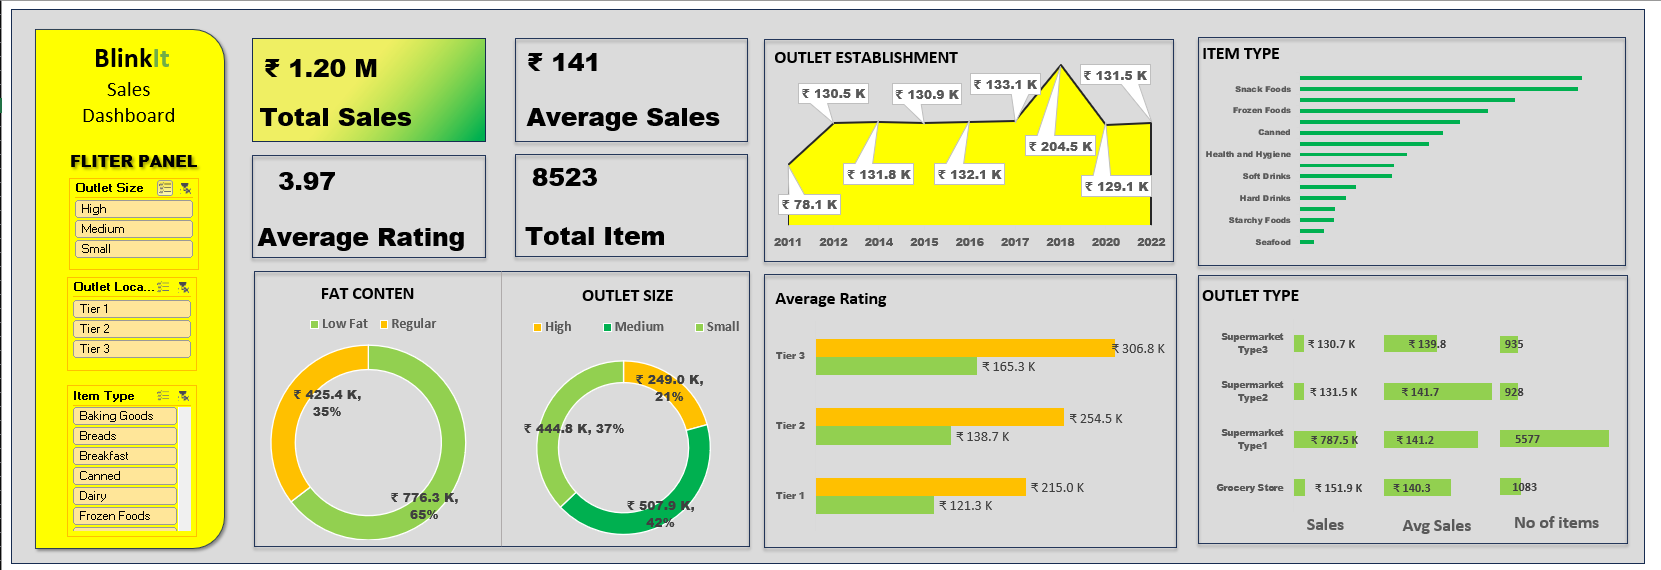

Layout of this report page (visuals, bound fields, positions):
{"tool":"powerbi","page":{"name":"Page 1","canvas":[1400,800],"ordinal":0},"visuals":[{"type":"shape","box":[25,25,205,775],"z":0},{"type":"textbox","box":[41.1,50,172.2,81.1],"z":1000},{"type":"textbox","box":[44.4,103.3,166.7,27.8],"z":2000},{"type":"cardVisual","fields":{"Data":["Sum(BlinkIT Grocery Data.Sales)","BlinkIT Grocery Data.AVERAGE SALES","BlinkIT Grocery Data.TOTAL ITEMS","Avg(BlinkIT Grocery Data.Rating)"]},"box":[254.3,50,570,270],"z":3000},{"type":"shape","box":[814.3,50,575.7,750],"z":4000},{"type":"slicer","fields":{"Values":["Parameter 1.Parameter 1"]},"box":[265.7,334.3,548.6,42.9],"z":5000},{"type":"donutChart","title":"FAT CONTENT","fields":{"Y":["BlinkIT Grocery Data.TOTAL SALES"],"Category":["BlinkIT Grocery Data.Item Fat Content"]},"box":[275.7,377.1,241.4,220],"z":6000},{"type":"clusteredBarChart","title":"LOCATION VS FAT CONTENT","fields":{"Y":["BlinkIT Grocery Data.TOTAL SALES"],"Category":["BlinkIT Grocery Data.Outlet Location Type"],"Series":["BlinkIT Grocery Data.Item Fat Content"]},"box":[498.6,377.1,302.9,238.6],"z":7000},{"type":"columnChart","title":"ITEM TYPE","fields":{"Y":["BlinkIT Grocery Data.TOTAL SALES"],"Category":["BlinkIT Grocery Data.Item Type"]},"box":[275.7,597.1,525.7,184.3],"z":8000},{"type":"areaChart","title":"Sales By Outlet Establishment Year","fields":{"Category":["BlinkIT Grocery Data.Outlet Establishment Year"],"Y":["BlinkIT Grocery Data.TOTAL SALES"]},"box":[835.7,71.4,540,234.3],"z":9000},{"type":"shape","box":[275.7,585.7,538.6,11.4],"z":10000},{"type":"shape","box":[454.3,377.1,44.3,220],"z":11000},{"type":"shape","box":[837.1,320,538.6,11.4],"z":12000},{"type":"donutChart","fields":{"Y":["Sum(BlinkIT Grocery Data.Sales)"],"Category":["BlinkIT Grocery Data.Outlet Size"]},"box":[824.3,334.3,268.6,251.4],"z":13000},{"type":"pivotTable","fields":{"Rows":["BlinkIT Grocery Data.Outlet Type"],"Values":["BlinkIT Grocery Data.AVG SALES","BlinkIT Grocery Data.AVG RATING","Sum(BlinkIT Grocery Data.Item Visibility)","Sum(BlinkIT Grocery Data.Sales)","Sum(BlinkIT Grocery Data.Rating)"]},"box":[824.3,585.7,575.7,195.7],"z":14000},{"type":"donutChart","title":"Sales by Outlet Location Type","fields":{"Y":["Sum(BlinkIT Grocery Data.Sales)"],"Category":["BlinkIT Grocery Data.Outlet Location Type"]},"box":[1107.1,334.3,272.9,265.7],"z":14001},{"type":"shape","box":[1080,320,44.3,271.4],"z":14002},{"type":"slicer","fields":{"Values":["BlinkIT Grocery Data.Item Type"]},"box":[41.4,150,170,495.7],"z":14003},{"type":"slicer","fields":{"Values":["BlinkIT Grocery Data.Outlet Size"]},"box":[44.3,661.4,167.1,120],"z":14004}]}

Visuals, with their boxes on the page's 1400x800 design canvas (x1, y1, x2, y2). These are canvas units, not pixel positions in the 1661x570 screenshot, which may show the page scaled, cropped or inside an application window:
shape: [25,25,230,800]
textbox: [41,50,213,131]
textbox: [44,103,211,131]
cardVisual - Sum(BlinkIT Grocery Data.Sales) x BlinkIT Grocery Data.AVERAGE SALES: [254,50,824,320]
shape: [814,50,1390,800]
slicer - Parameter 1.Parameter 1: [266,334,814,377]
"FAT CONTENT" donutChart: [276,377,517,597]
"LOCATION VS FAT CONTENT" clusteredBarChart: [499,377,802,616]
"ITEM TYPE" columnChart: [276,597,801,781]
"Sales By Outlet Establishment Year" areaChart: [836,71,1376,306]
shape: [276,586,814,597]
shape: [454,377,499,597]
shape: [837,320,1376,331]
donutChart - Sum(BlinkIT Grocery Data.Sales) x BlinkIT Grocery Data.Outlet Size: [824,334,1093,586]
pivotTable - BlinkIT Grocery Data.Outlet Type x BlinkIT Grocery Data.AVG SALES: [824,586,1400,781]
"Sales by Outlet Location Type" donutChart: [1107,334,1380,600]
shape: [1080,320,1124,591]
slicer - BlinkIT Grocery Data.Item Type: [41,150,211,646]
slicer - BlinkIT Grocery Data.Outlet Size: [44,661,211,781]
